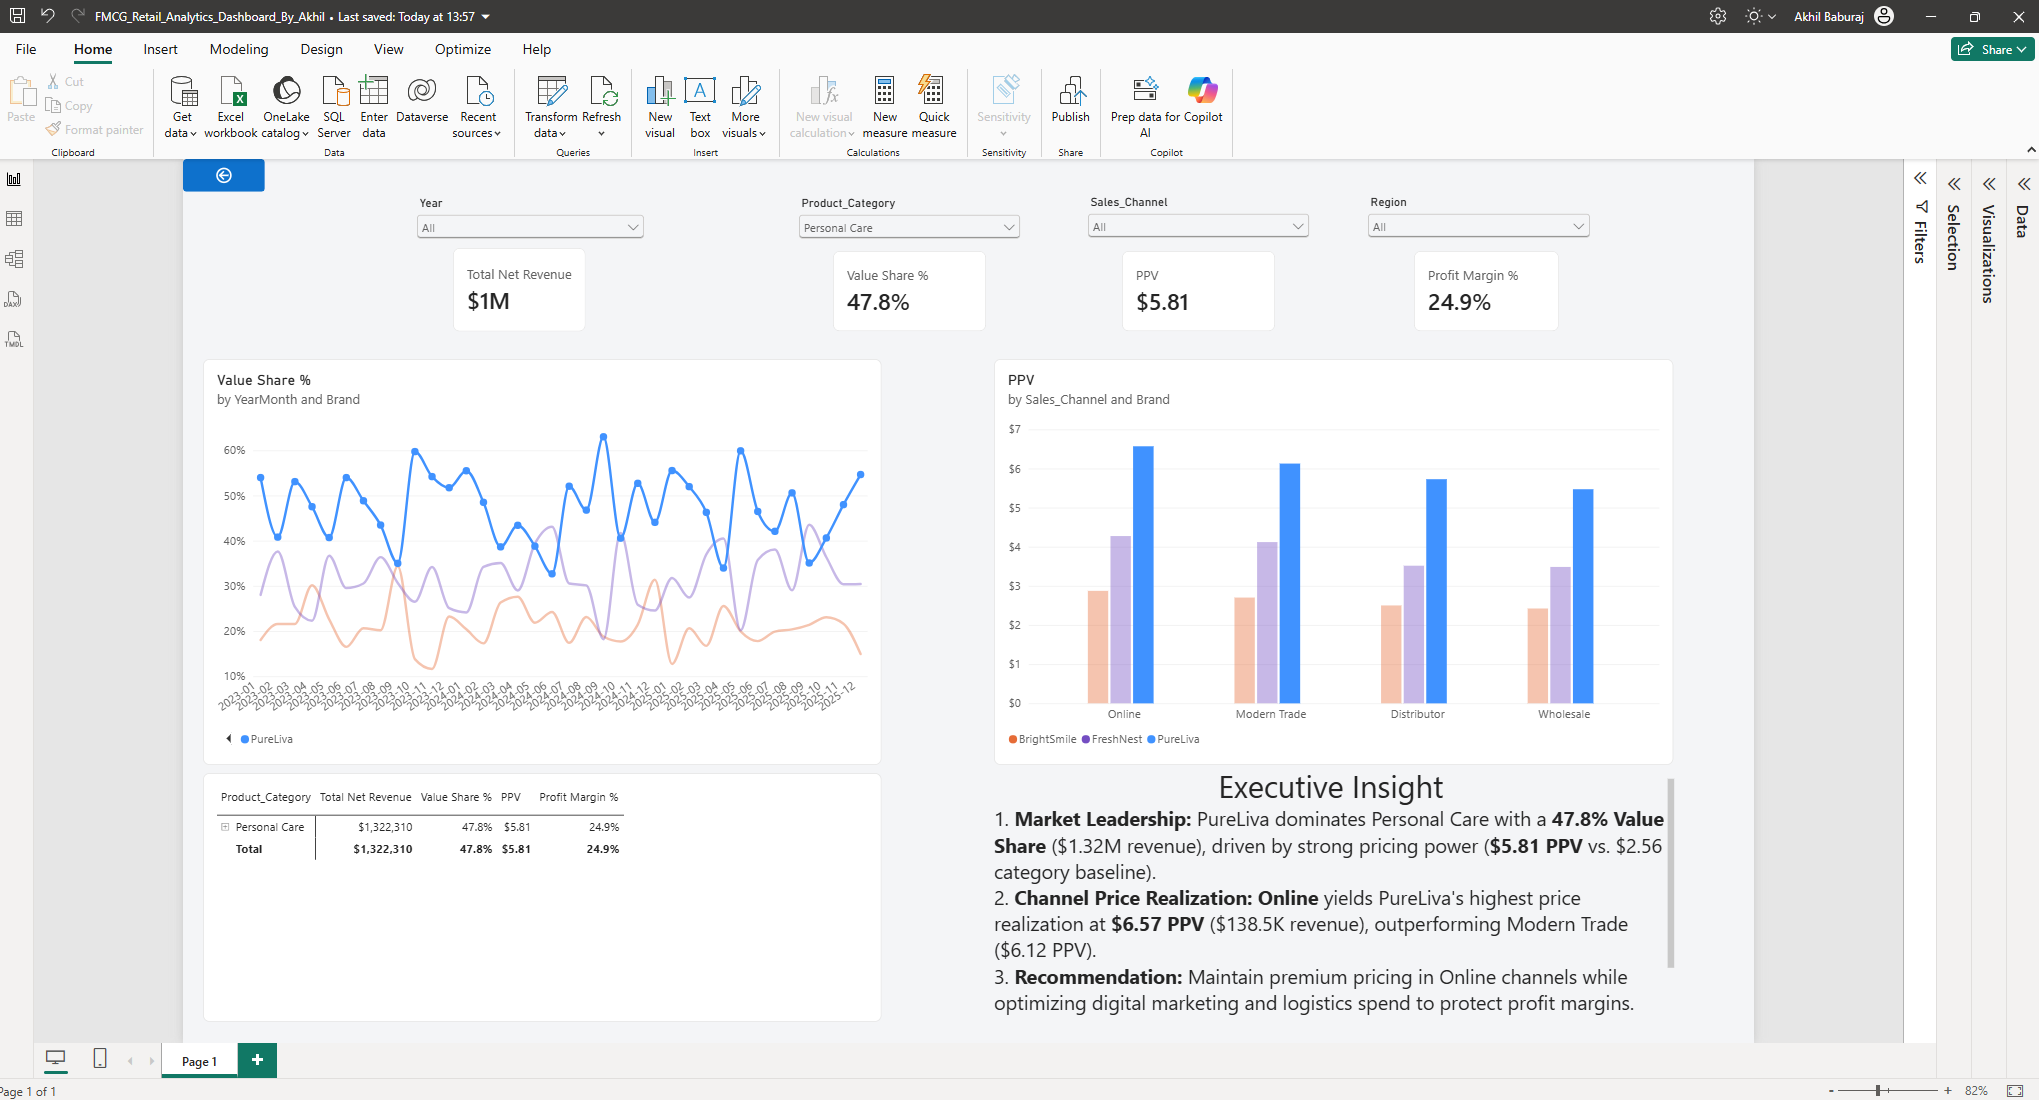

This screenshot's page, from the dashboard's own definition file:
{"tool":"powerbi","page":{"name":"Page 1","canvas":[1920,1080],"ordinal":0},"visuals":[{"type":"slicer","fields":{"Values":["Dim_Date.Year"]},"box":[278.6,57.4,287.1,53.8],"z":0},{"type":"slicer","fields":{"Values":["fmcg_sales_marketing_profitability_2023_2025.Product_Category"]},"box":[747.7,57.4,279.8,53.8],"z":1000},{"type":"slicer","fields":{"Values":["fmcg_sales_marketing_profitability_2023_2025.Sales_Channel"]},"box":[1100.8,57.4,279.8,55],"z":2000},{"type":"slicer","fields":{"Values":["fmcg_sales_marketing_profitability_2023_2025.Region"]},"box":[1452.6,57.4,279.8,55],"z":3000},{"type":"actionButton","box":[0,0,100,40],"z":4000},{"type":"cardVisual","fields":{"Data":["_Measures.Total Net Revenue"]},"box":[328.6,127.1,162.4,102.7],"z":5000},{"type":"cardVisual","fields":{"Data":["_Measures.Value Share %"]},"box":[794.1,130.7,187.4,98.6],"z":6000},{"type":"cardVisual","fields":{"Data":["_Measures.PPV"]},"box":[1147.2,130.7,187.4,98.6],"z":7000},{"type":"cardVisual","fields":{"Data":["_Measures.Profit Margin %"]},"box":[1503.9,130.7,177.7,98.6],"z":8000},{"type":"lineChart","fields":{"Category":["Dim_Date.YearMonth"],"Series":["fmcg_sales_marketing_profitability_2023_2025.Brand"],"Y":["_Measures.Value Share %"]},"box":[25,244.3,828.8,495.6],"z":9000},{"type":"clusteredColumnChart","fields":{"Category":["fmcg_sales_marketing_profitability_2023_2025.Sales_Channel"],"Series":["fmcg_sales_marketing_profitability_2023_2025.Brand"],"Y":["_Measures.PPV"]},"box":[990.8,244.3,830.2,495.6],"z":10000},{"type":"pivotTable","fields":{"Rows":["fmcg_sales_marketing_profitability_2023_2025.Product_Category","fmcg_sales_marketing_profitability_2023_2025.Brand","fmcg_sales_marketing_profitability_2023_2025.SKU"],"Values":["_Measures.Total Net Revenue","_Measures.Value Share %","_Measures.PPV","_Measures.Profit Margin %"]},"box":[25,749.7,828.8,304],"z":11000},{"type":"textbox","box":[990.8,750.1,830.8,304.2],"z":11501},{"type":"textbox","box":[653.6,9.8,650,47.6],"z":11502}]}

Visuals, with their boxes on the page's 1920x1080 design canvas (x1, y1, x2, y2). These are canvas units, not pixel positions in the 2039x1100 screenshot, which may show the page scaled, cropped or inside an application window:
slicer - Dim_Date.Year: locate(279, 57, 566, 111)
slicer - fmcg_sales_marketing_profitability_2023_2025.Product_Category: locate(748, 57, 1028, 111)
slicer - fmcg_sales_marketing_profitability_2023_2025.Sales_Channel: locate(1101, 57, 1381, 112)
slicer - fmcg_sales_marketing_profitability_2023_2025.Region: locate(1453, 57, 1732, 112)
actionButton: locate(0, 0, 100, 40)
cardVisual - _Measures.Total Net Revenue: locate(329, 127, 491, 230)
cardVisual - _Measures.Value Share %: locate(794, 131, 982, 229)
cardVisual - _Measures.PPV: locate(1147, 131, 1335, 229)
cardVisual - _Measures.Profit Margin %: locate(1504, 131, 1682, 229)
lineChart - Dim_Date.YearMonth x fmcg_sales_marketing_profitability_2023_2025.Brand: locate(25, 244, 854, 740)
clusteredColumnChart - fmcg_sales_marketing_profitability_2023_2025.Sales_Channel x fmcg_sales_marketing_profitability_2023_2025.Brand: locate(991, 244, 1821, 740)
pivotTable - fmcg_sales_marketing_profitability_2023_2025.Product_Category x fmcg_sales_marketing_profitability_2023_2025.Brand: locate(25, 750, 854, 1054)
textbox: locate(991, 750, 1822, 1054)
textbox: locate(654, 10, 1304, 57)
